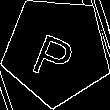P_N: (30, 20, 82, 81)
